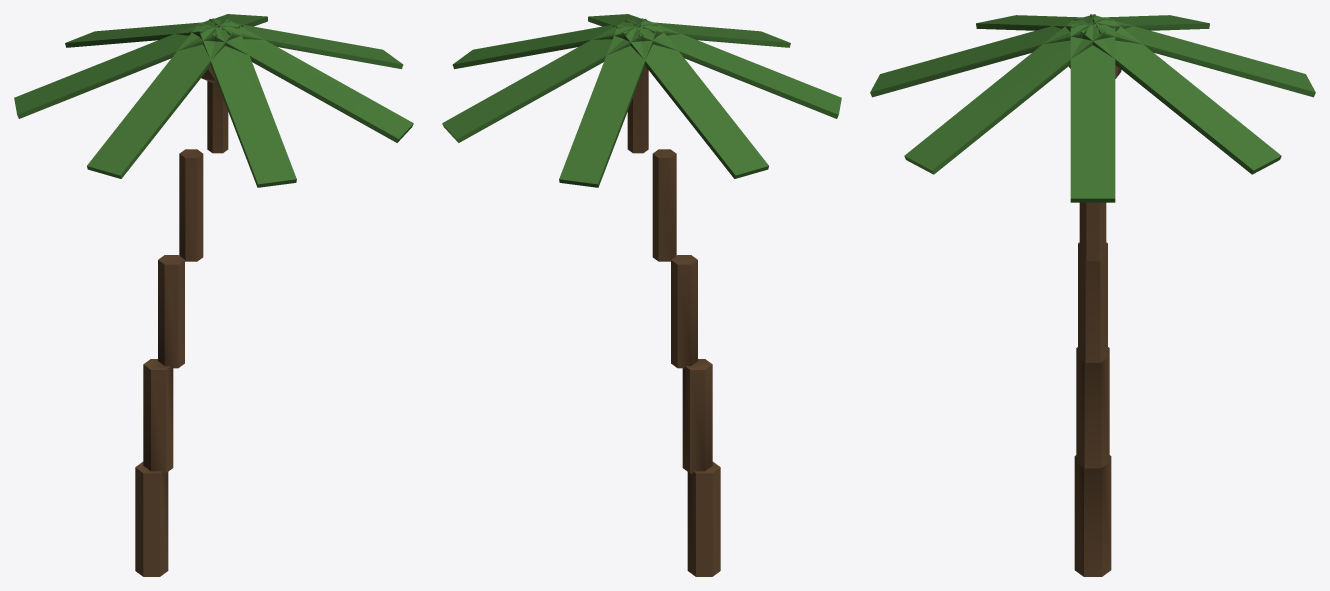
The model's file is cay-dua.glb.
The picture shows the model from 3 angles, left to right: view 1: azimuth 30°, elevation 25°; view 2: azimuth 150°, elevation 25°; view 3: azimuth 270°, elevation 25°; orthographic projection. The views are drawn at different scales.
Parts seen in each view (by area): view 1: cay-dua; view 2: cay-dua; view 3: cay-dua.
Part boxes in pixels (x1,y1,x2,y2): cay-dua: (14, 14, 413, 576); cay-dua: (442, 14, 841, 576); cay-dua: (870, 14, 1315, 576).
Bounding box in the file's own units: 3.1 × 4.59 × 3.18.
